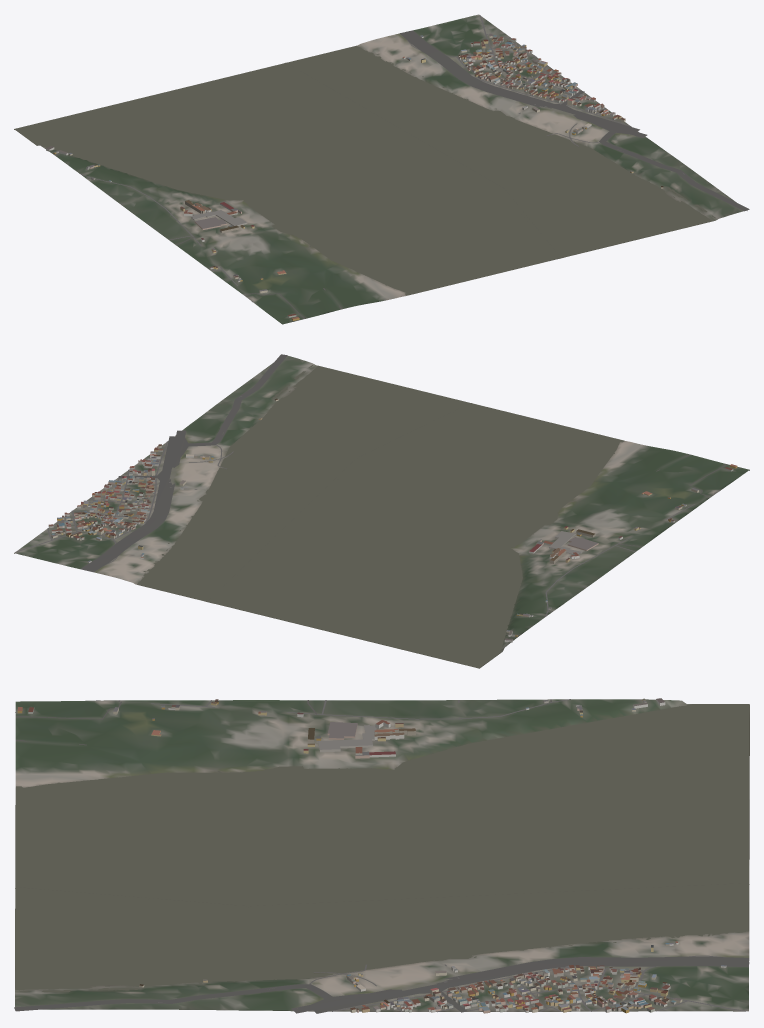
The picture shows the model from 3 angles, top to bottom: view 1: azimuth 30°, elevation 25°; view 2: azimuth 150°, elevation 25°; view 3: azimuth 270°, elevation 25°; orthographic projection. The views are drawn at different scales.
Parts seen in each view (by area): view 1: water, ground, buildings, roads; view 2: water, ground, buildings, roads; view 3: water, ground, buildings, roads.
Boxes of the visible parts, x1,y1,x2,y2 form: water: (15, 45, 715, 295); ground: (14, 14, 747, 324); buildings: (46, 33, 663, 320); roads: (79, 15, 749, 320); water: (137, 365, 624, 668); ground: (14, 356, 749, 668); buildings: (48, 398, 737, 642); roads: (15, 354, 727, 616); water: (15, 704, 749, 992); ground: (15, 699, 749, 1011); buildings: (17, 698, 726, 1013); roads: (14, 699, 749, 1013).
Bounding box in the file's own units: 1411 × 21.25 × 1405.
